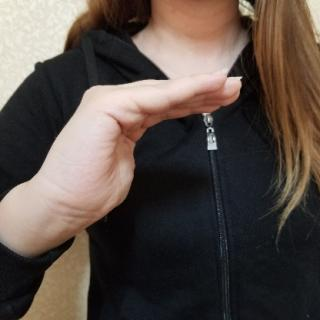HAA: (22, 71, 248, 228)
